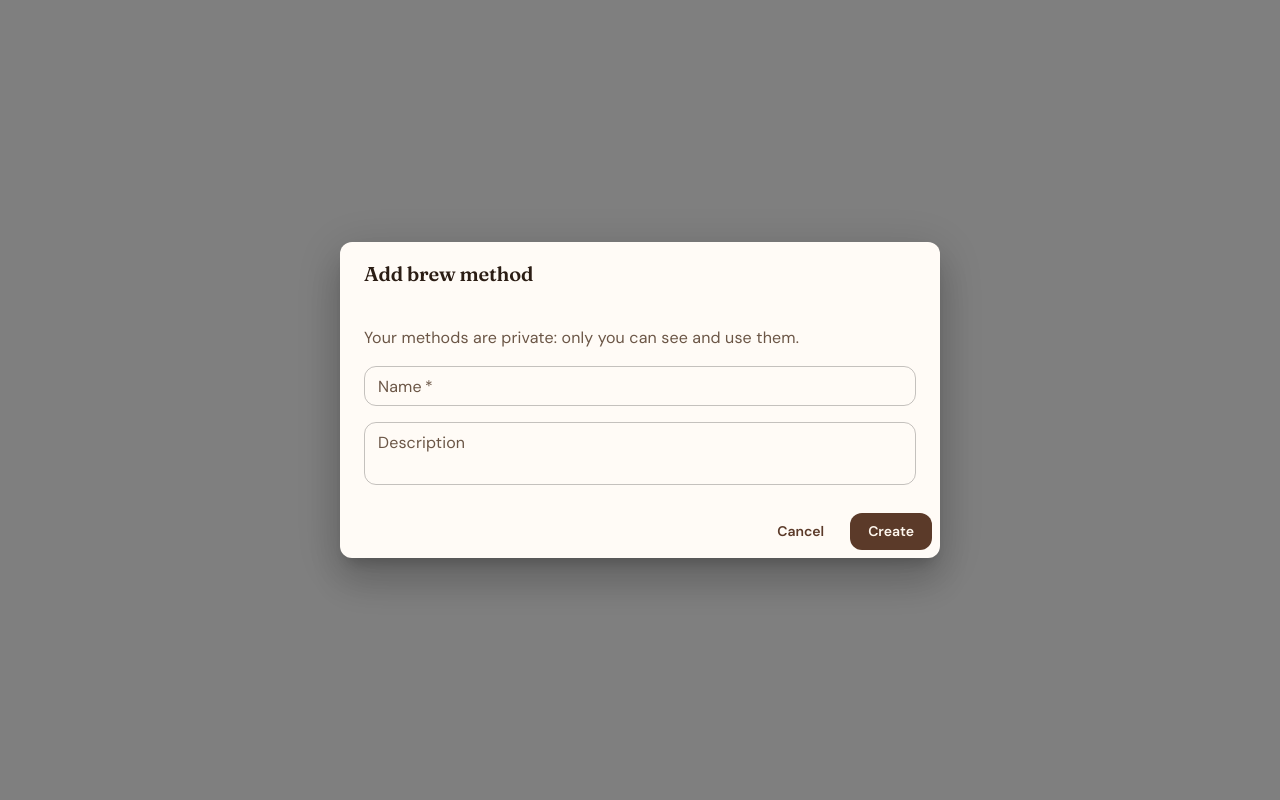
BrewMethodFormDialog › maps a server 400 validation error onto the field
In the field labelled "Name *": (640, 386) [364, 366, 916, 406], type "X"
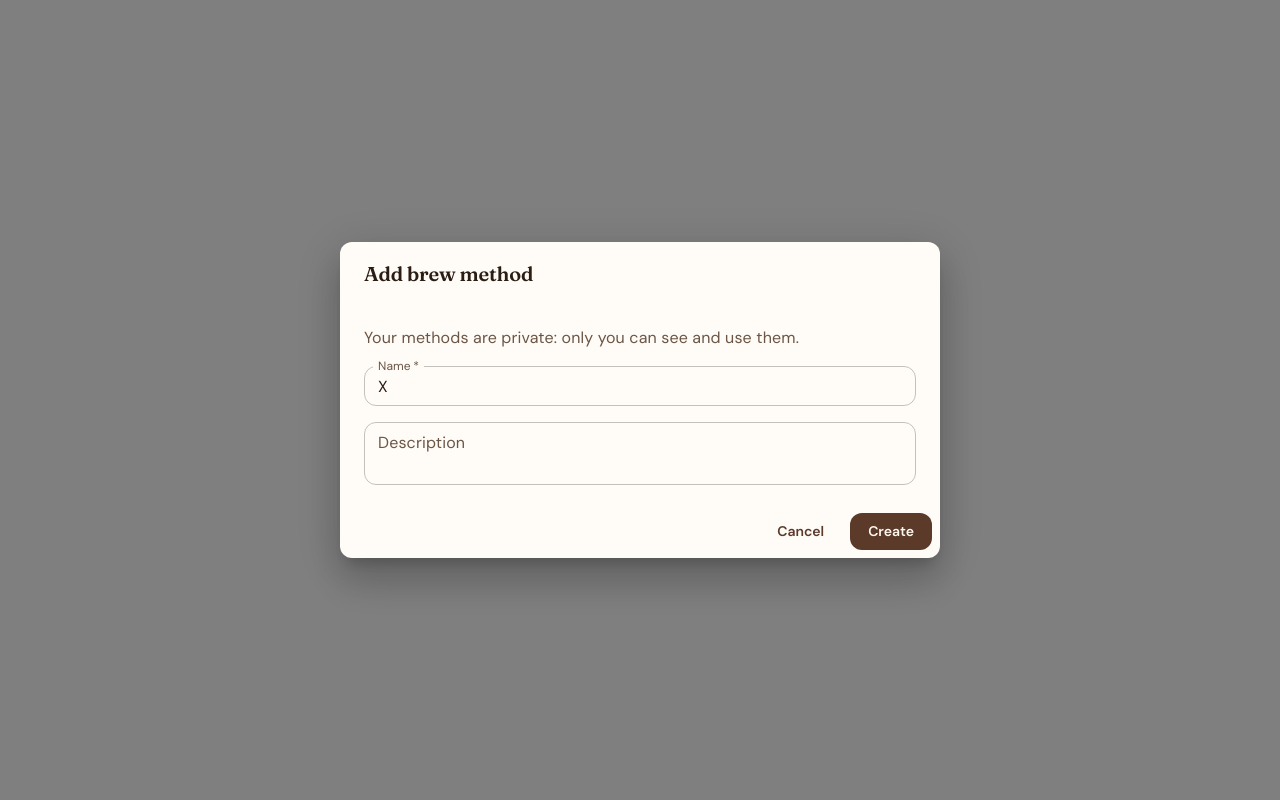
Click the button "Create": (891, 532) [850, 513, 932, 550]
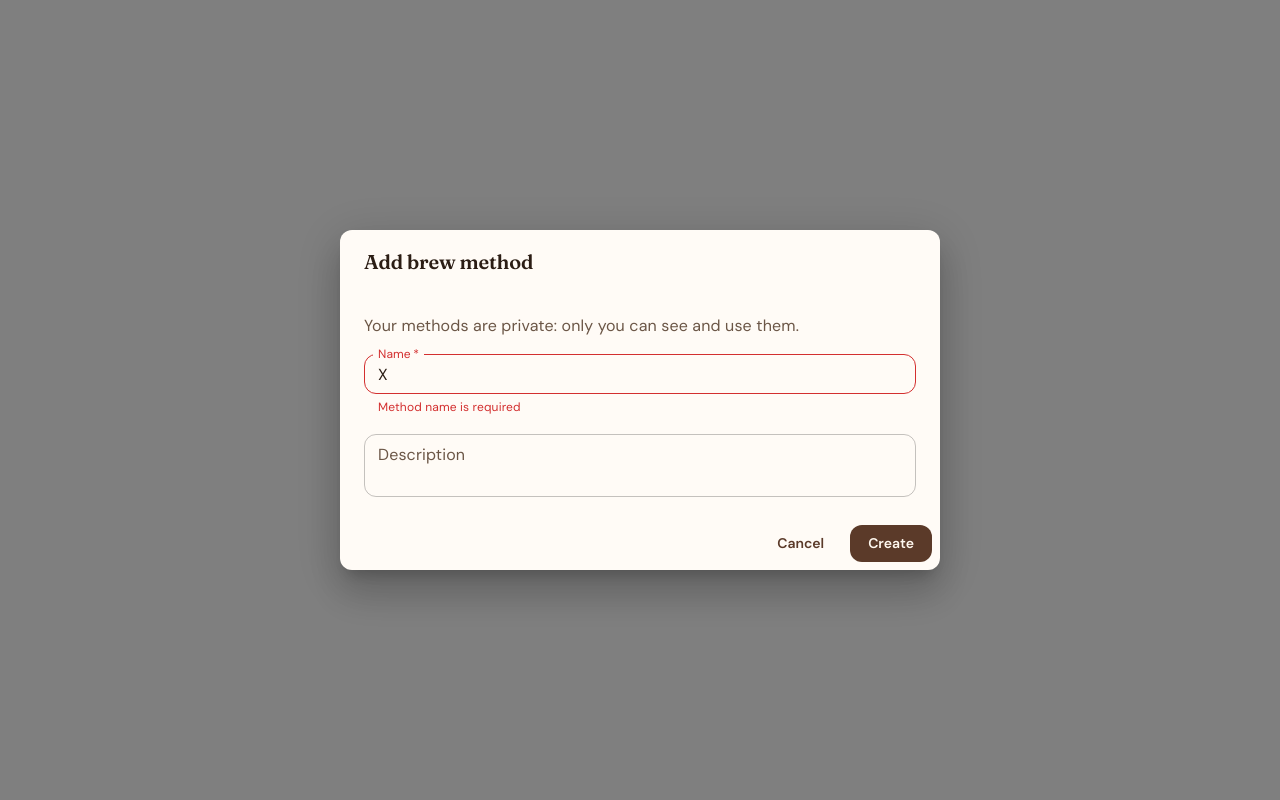
Expected: the text "Method name is required" is shown, [378, 399, 521, 415]
